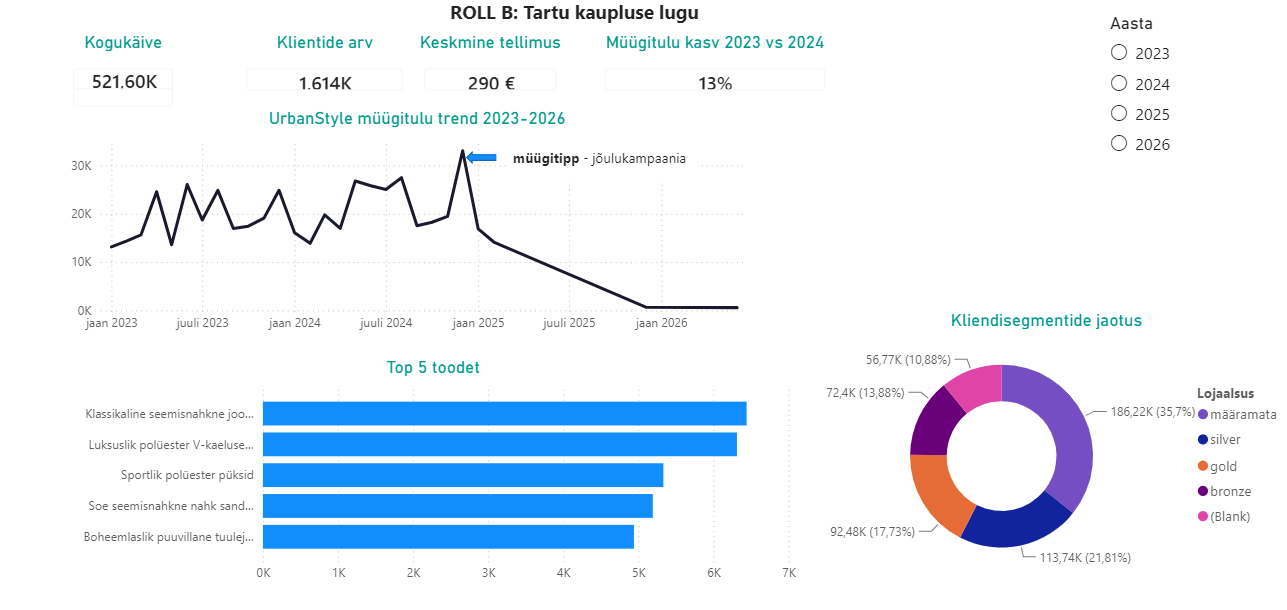

The page's visual inventory and layout, read from the dashboard file:
{"tool":"powerbi","page":{"name":"Lk 2","canvas":[1280,720],"ordinal":0},"visuals":[{"type":"lineChart","title":"UrbanStyle müügitulu trend 2023-2026","fields":{"Category":["public sales.sale_date.Variatsioon.Kuupäeva hierarhia.Aasta","public sales.sale_date.Variatsioon.Kuupäeva hierarhia.Kuu"],"Y":["Sum(public sales.total_price)"]},"box":[157.6,265.6,868.8,334.1],"z":0},{"type":"cardVisual","title":"Klientide arv","fields":{"Data":["CountNonNull(public customers.customer_id)"]},"box":[276.7,81.9,237.2,151.1],"z":1000},{"type":"cardVisual","title":"Müügitulu muutus (2025 vs 2024)","fields":{"Data":["public sales.Kasv"]},"box":[957.2,81.9,289.4,151.1],"z":2000},{"type":"cardVisual","title":"Müügitulu","fields":{"Data":["Sum(public sales.total_price)"]},"box":[56.5,82.2,234.8,150.8],"z":3000},{"type":"cardVisual","title":"Müügitulu muutus 2023 vs 2024","fields":{"Data":["public sales.Kasv2"]},"box":[704.5,81.9,252.7,151.1],"z":4000},{"type":"cardVisual","title":"Keskmine tellimus","fields":{"Data":["Avg(public sales.total_price)"]},"box":[513.9,81.9,190.6,151.1],"z":5000}]}

Visuals, with their boxes on the page's 1280x720 design canvas (x1, y1, x2, y2). These are canvas units, not pixel positions in the 1287x610 screenshot, which may show the page scaled, cropped or inside an application window:
"UrbanStyle müügitulu trend 2023-2026" lineChart: crop(158, 266, 1026, 600)
"Klientide arv" cardVisual: crop(277, 82, 514, 233)
"Müügitulu muutus (2025 vs 2024)" cardVisual: crop(957, 82, 1247, 233)
"Müügitulu" cardVisual: crop(56, 82, 291, 233)
"Müügitulu muutus 2023 vs 2024" cardVisual: crop(704, 82, 957, 233)
"Keskmine tellimus" cardVisual: crop(514, 82, 704, 233)
